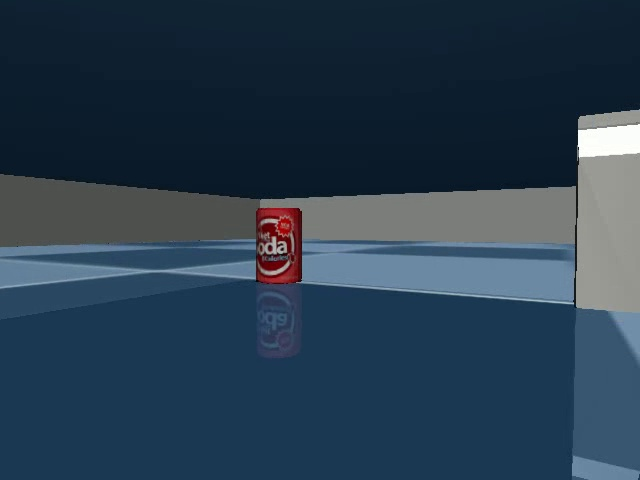can: (251, 202, 310, 289)
milk: (565, 99, 640, 320)
